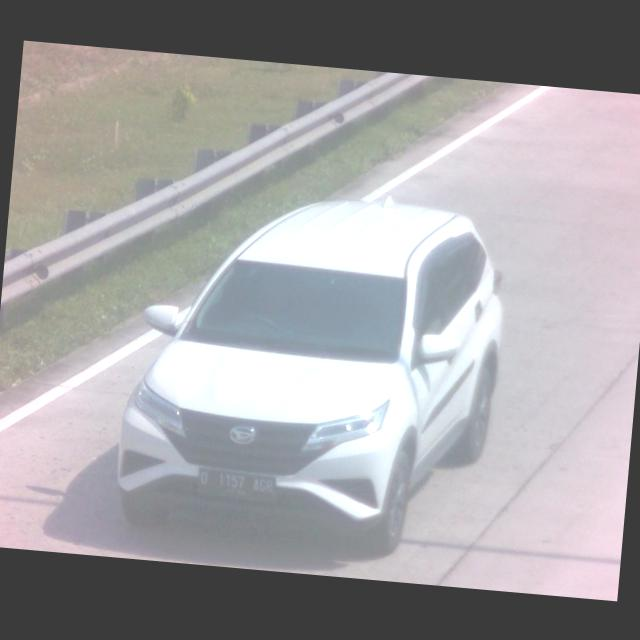plate: (191, 462, 280, 505)
